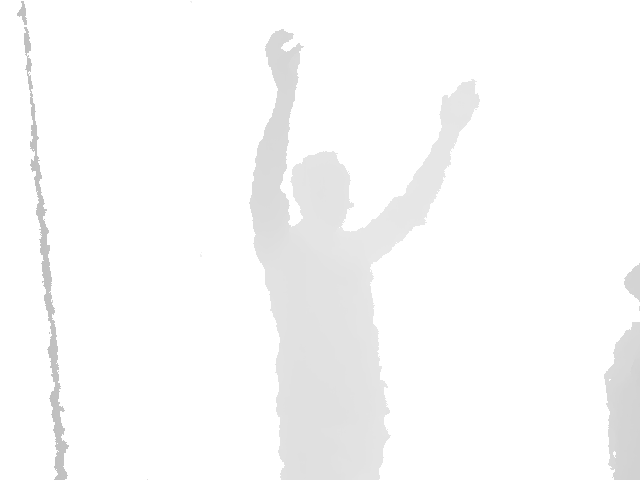hand: (438, 78, 481, 136), (265, 29, 302, 90)
head: (290, 150, 353, 229)
person: (248, 30, 482, 479)
